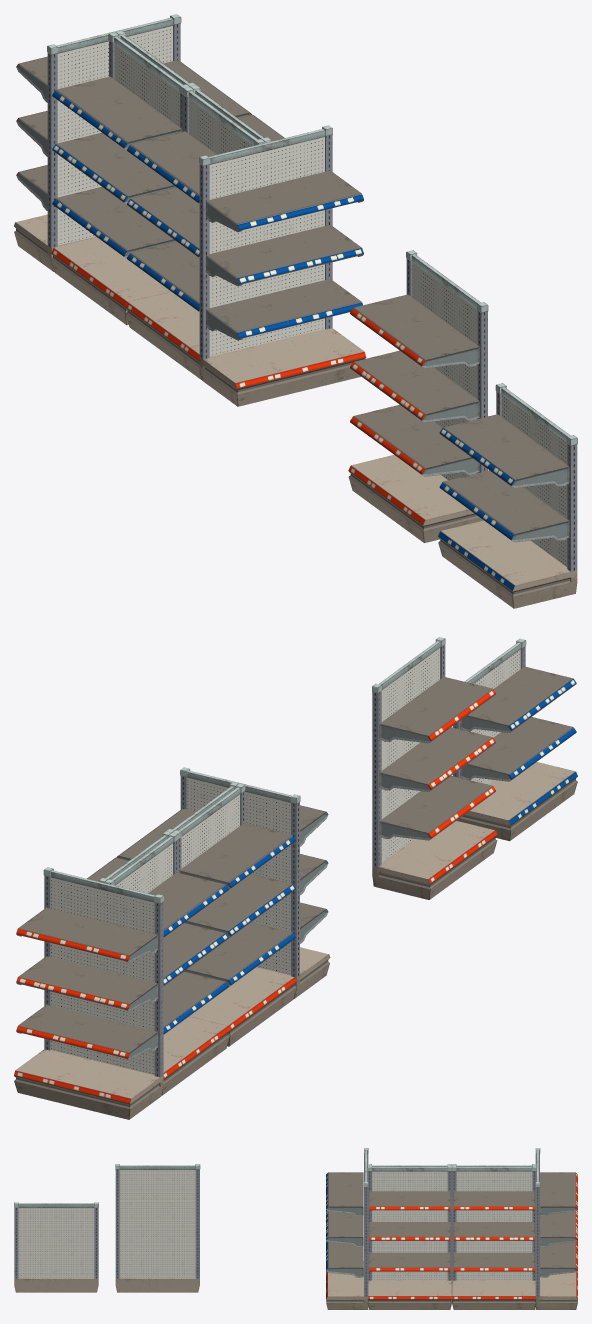
File: modular_shelves.glb
3 renders of one model, top to bottom at view 1: azimuth 30°, elevation 25°; view 2: azimuth 150°, elevation 25°; view 3: azimuth 270°, elevation 25°, orthographic. The views are drawn at different scales.
Parts seen in each view (by area): view 1: shelf_Base_Expo004, shelf_Base_shortexp, shelf_Base_Expo006, shelf_Base_Expo005, shelf_Base_Expo001, shelf_Base_Expo, shelf_piece_exp031, shelf_piece_exp030, shelf_piece_exp004, shelf_piece_exp022, shelf_piece_exp029, shelf_piece_exp003 (+12 smaller); view 2: shelf_Base_Expo005, shelf_Base_Expo006, shelf_Base_Expo004, shelf_Base_Expo, shelf_Base_shortexp, shelf_Base_Expo001, shelf_piece_exp017, shelf_piece_exp019, shelf_piece_exp018, shelf_piece_exp022, shelf_piece_exp021, shelf_piece_exp020 (+12 smaller); view 3: shelf_Base_Expo006, shelf_Base_shortexp, shelf_Base_Expo003, shelf_Base_Expo002, shelf_Base_Expo004, shelf_Base_Expo005, shelf_piece_exp011, shelf_piece_exp008, shelf_piece_exp010, shelf_piece_exp013, shelf_piece_exp031, shelf_piece_exp019 (+8 smaller).
Boxes of the visible parts, left/top/right/bottom form: shelf_Base_Expo004: left=199, top=125, right=366, bottom=406; shelf_Base_shortexp: left=438, top=383, right=577, bottom=608; shelf_Base_Expo006: left=348, top=250, right=488, bottom=542; shelf_Base_Expo005: left=14, top=14, right=181, bottom=271; shelf_Base_Expo001: left=51, top=32, right=189, bottom=325; shelf_Base_Expo: left=125, top=87, right=264, bottom=379; shelf_piece_exp031: left=206, top=170, right=363, bottom=232; shelf_piece_exp030: left=206, top=224, right=363, bottom=286; shelf_piece_exp004: left=439, top=414, right=569, bottom=488; shelf_piece_exp022: left=350, top=294, right=479, bottom=368; shelf_piece_exp029: left=206, top=279, right=362, bottom=340; shelf_piece_exp003: left=439, top=470, right=569, bottom=542; shelf_Base_Expo005: left=14, top=867, right=164, bottom=1119; shelf_Base_Expo006: left=372, top=637, right=497, bottom=899; shelf_Base_Expo004: left=180, top=767, right=330, bottom=998; shelf_Base_Expo: left=172, top=783, right=296, bottom=1046; shelf_Base_shortexp: left=453, top=638, right=577, bottom=841; shelf_Base_Expo001: left=104, top=832, right=230, bottom=1095; shelf_piece_exp017: left=16, top=1005, right=157, bottom=1060; shelf_piece_exp019: left=16, top=907, right=157, bottom=962; shelf_piece_exp018: left=16, top=956, right=157, bottom=1011; shelf_piece_exp022: left=379, top=677, right=495, bottom=743; shelf_piece_exp021: left=379, top=727, right=495, bottom=791; shelf_piece_exp020: left=379, top=776, right=495, bottom=840; shelf_Base_Expo006: left=115, top=1164, right=200, bottom=1292; shelf_Base_shortexp: left=14, top=1202, right=98, bottom=1292; shelf_Base_Expo003: left=367, top=1166, right=451, bottom=1309; shelf_Base_Expo002: left=451, top=1166, right=536, bottom=1309; shelf_Base_Expo004: left=326, top=1148, right=368, bottom=1309; shelf_Base_Expo005: left=535, top=1148, right=577, bottom=1309; shelf_piece_exp011: left=369, top=1252, right=450, bottom=1272; shelf_piece_exp008: left=453, top=1252, right=534, bottom=1272; shelf_piece_exp010: left=453, top=1191, right=534, bottom=1210; shelf_piece_exp013: left=369, top=1191, right=450, bottom=1210; shelf_piece_exp031: left=326, top=1172, right=363, bottom=1216; shelf_piece_exp019: left=540, top=1172, right=577, bottom=1216.
Bounding box in the file's own units: 101 × 166 × 668.
2 materials, 2 textured.
